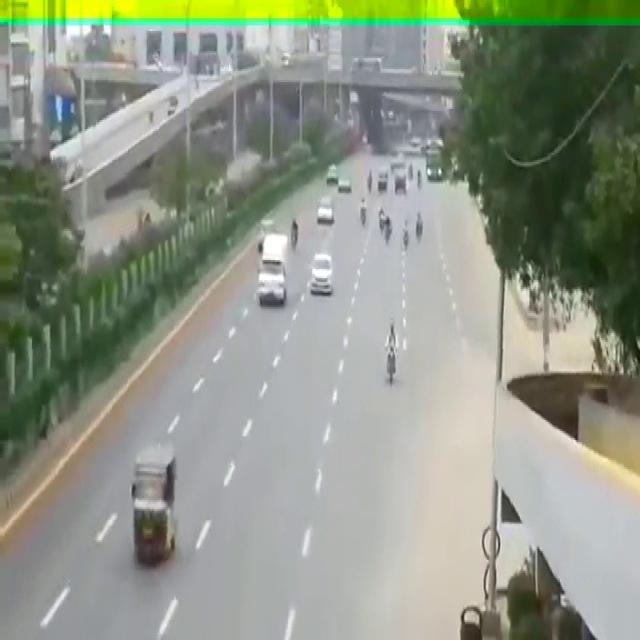car: (308, 253, 332, 298), (316, 203, 334, 226)
motorbike: (381, 320, 399, 391)
truck: (258, 233, 288, 318)
